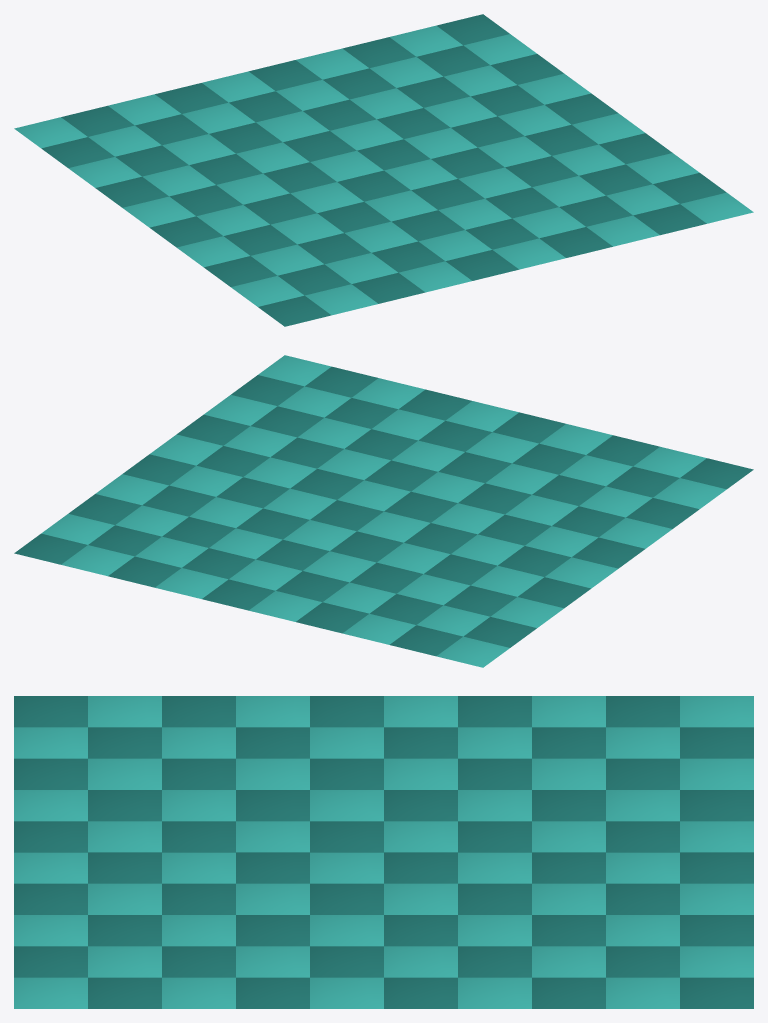
The model's file is CheckerFloor.fbx.
3 views of the same model, one above another, from view 1: azimuth 30°, elevation 25°; view 2: azimuth 150°, elevation 25°; view 3: azimuth 270°, elevation 25° (orthographic). The views are drawn at different scales.
Parts seen in each view (by area): view 1: polySurface105, polySurface124, polySurface127, polySurface129, polySurface153, polySurface156, polySurface169, polySurface171, polySurface184, polySurface186, polySurface198, polySurface201 (+88 smaller); view 2: polySurface106, polySurface110, polySurface111, polySurface115, polySurface130, polySurface136, polySurface147, polySurface151, polySurface165, polySurface173, polySurface178, polySurface190 (+88 smaller); view 3: polySurface102, polySurface103, polySurface104, polySurface105, polySurface106, polySurface107, polySurface108, polySurface109, polySurface110, polySurface111, polySurface112, polySurface113 (+88 smaller).
Boxes of the visible parts, x1,y1,x2,y2 form: polySurface105: (209, 122, 282, 153); polySurface124: (485, 187, 558, 218); polySurface127: (243, 193, 316, 224); polySurface129: (451, 116, 524, 147); polySurface153: (108, 94, 181, 125); polySurface156: (390, 25, 462, 56); polySurface169: (330, 119, 403, 150); polySurface171: (142, 165, 215, 196); polySurface184: (364, 190, 437, 221); polySurface186: (552, 144, 625, 175); polySurface198: (586, 215, 659, 246); polySurface201: (305, 284, 377, 315); polySurface106: (108, 556, 181, 587); polySurface110: (330, 531, 403, 562); polySurface111: (390, 625, 462, 656); polySurface115: (142, 485, 215, 516); polySurface130: (364, 460, 437, 491); polySurface136: (552, 506, 625, 537); polySurface147: (305, 366, 377, 397); polySurface151: (586, 435, 659, 466); polySurface165: (209, 528, 282, 559); polySurface173: (451, 534, 524, 565); polySurface178: (243, 457, 316, 488); polySurface190: (485, 463, 558, 494); polySurface102: (680, 790, 753, 821); polySurface103: (606, 883, 679, 914); polySurface104: (606, 696, 679, 727); polySurface105: (532, 790, 605, 821); polySurface106: (680, 915, 753, 946); polySurface107: (680, 852, 753, 883); polySurface108: (532, 977, 605, 1008); polySurface109: (532, 727, 605, 758); polySurface110: (458, 821, 531, 852); polySurface111: (680, 727, 753, 758); polySurface112: (606, 758, 679, 789); polySurface113: (606, 821, 679, 852).
Size of the model in its own units: 23.92 by 0.1331 by 23.92.
